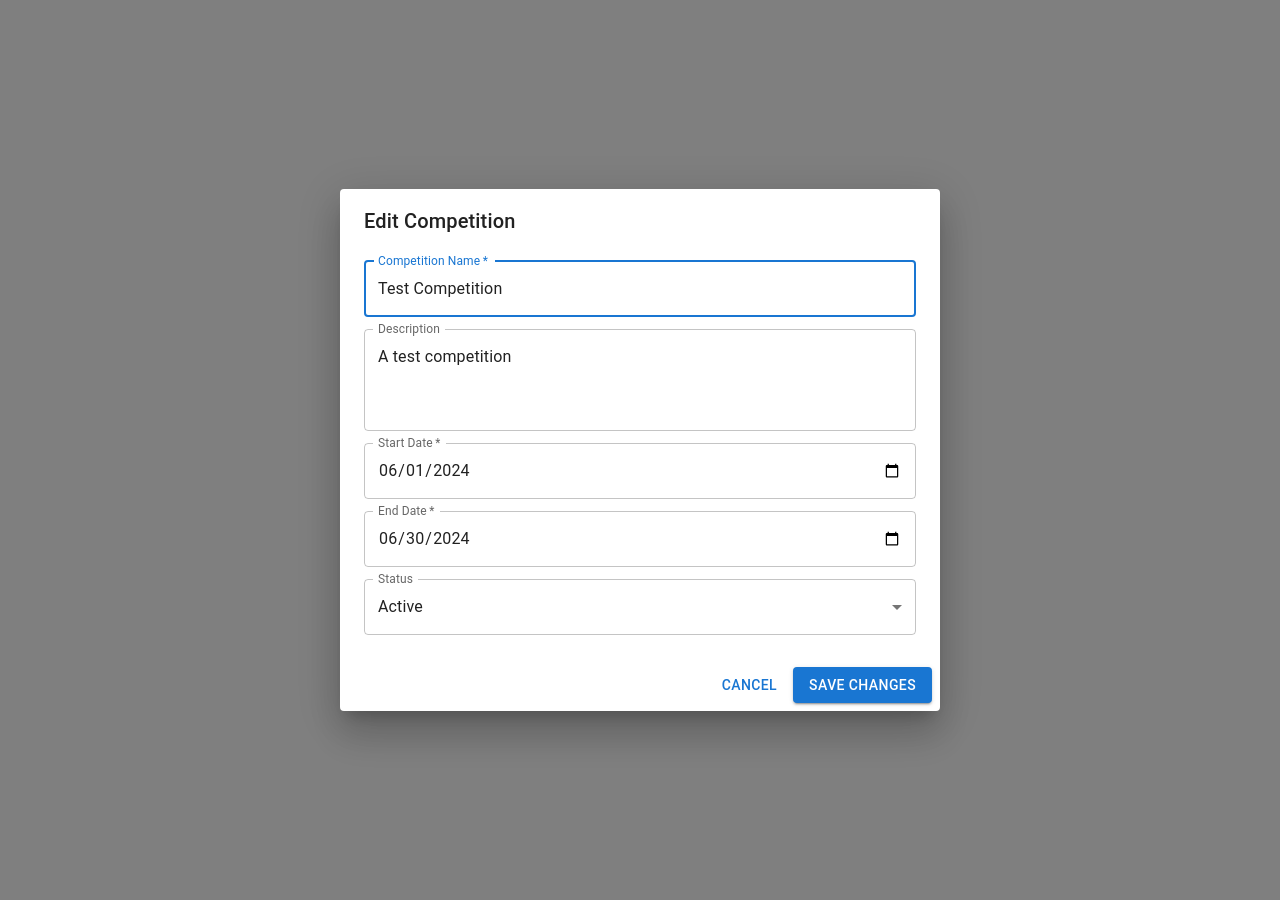
it: EditCompetitionModal › allows changing status
Expected: the heading "Edit Competition" is shown, [364, 209, 516, 233]
Note: Open status dropdown
Click the dropdown named "status": coordinates (400, 607) [378, 597, 423, 616]
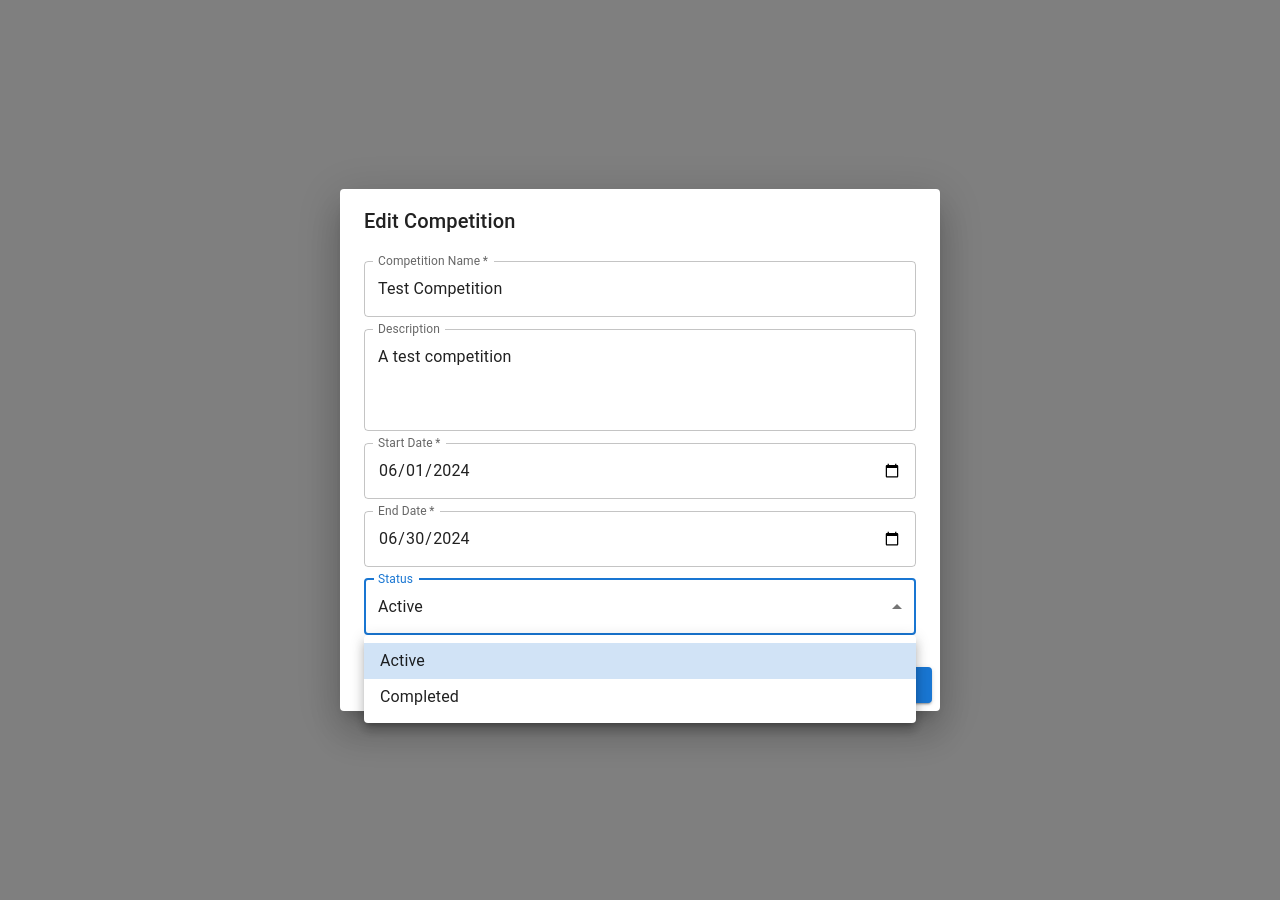
Note: Select "completed"
Click the option "Completed": coordinates (420, 696) [380, 687, 459, 706]
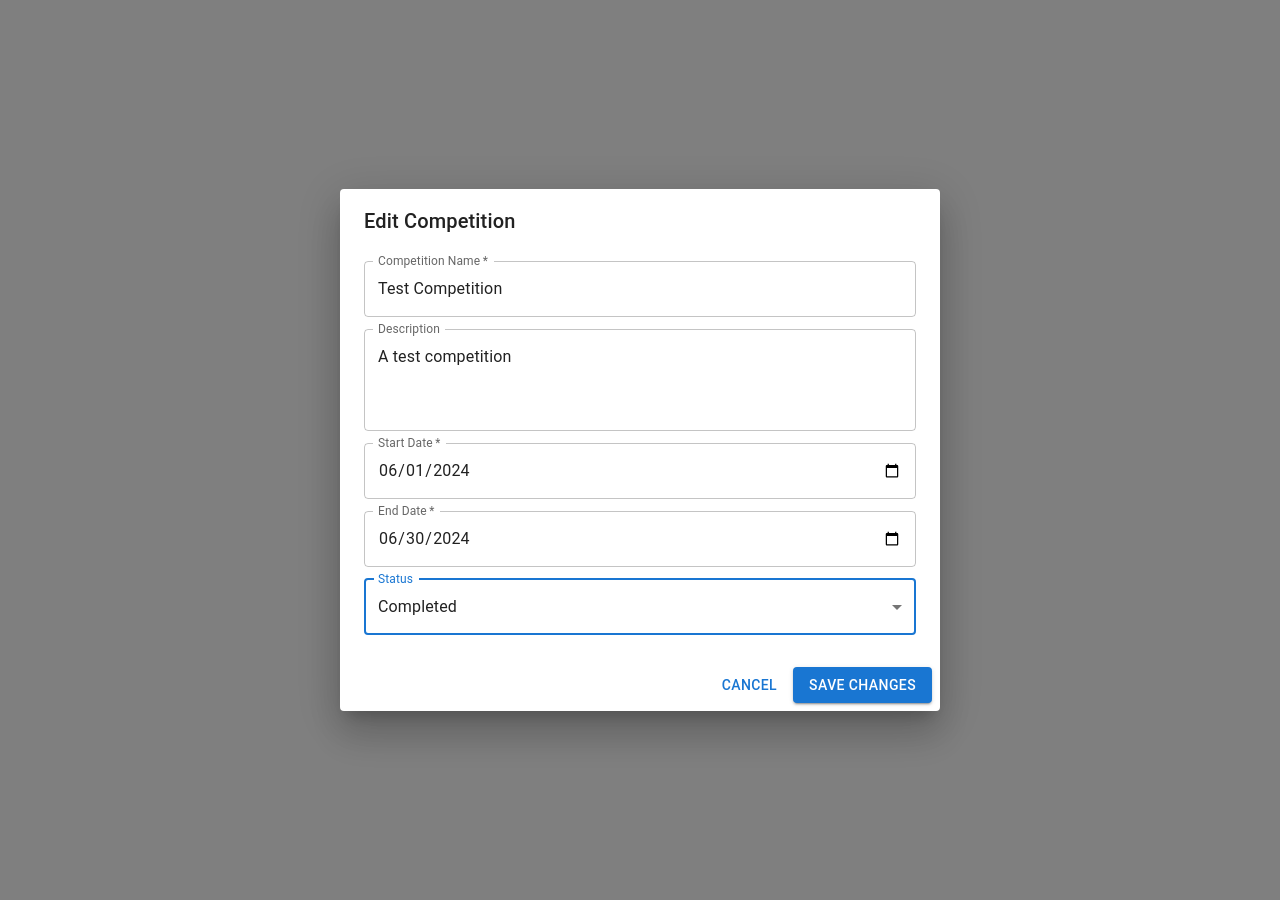
Now the dropdown named "status" reads "Completed", box [378, 597, 457, 616]
